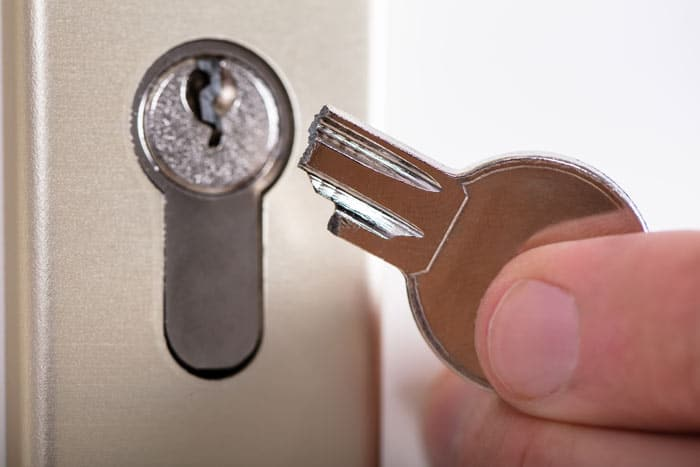key: (297, 102, 652, 403)
